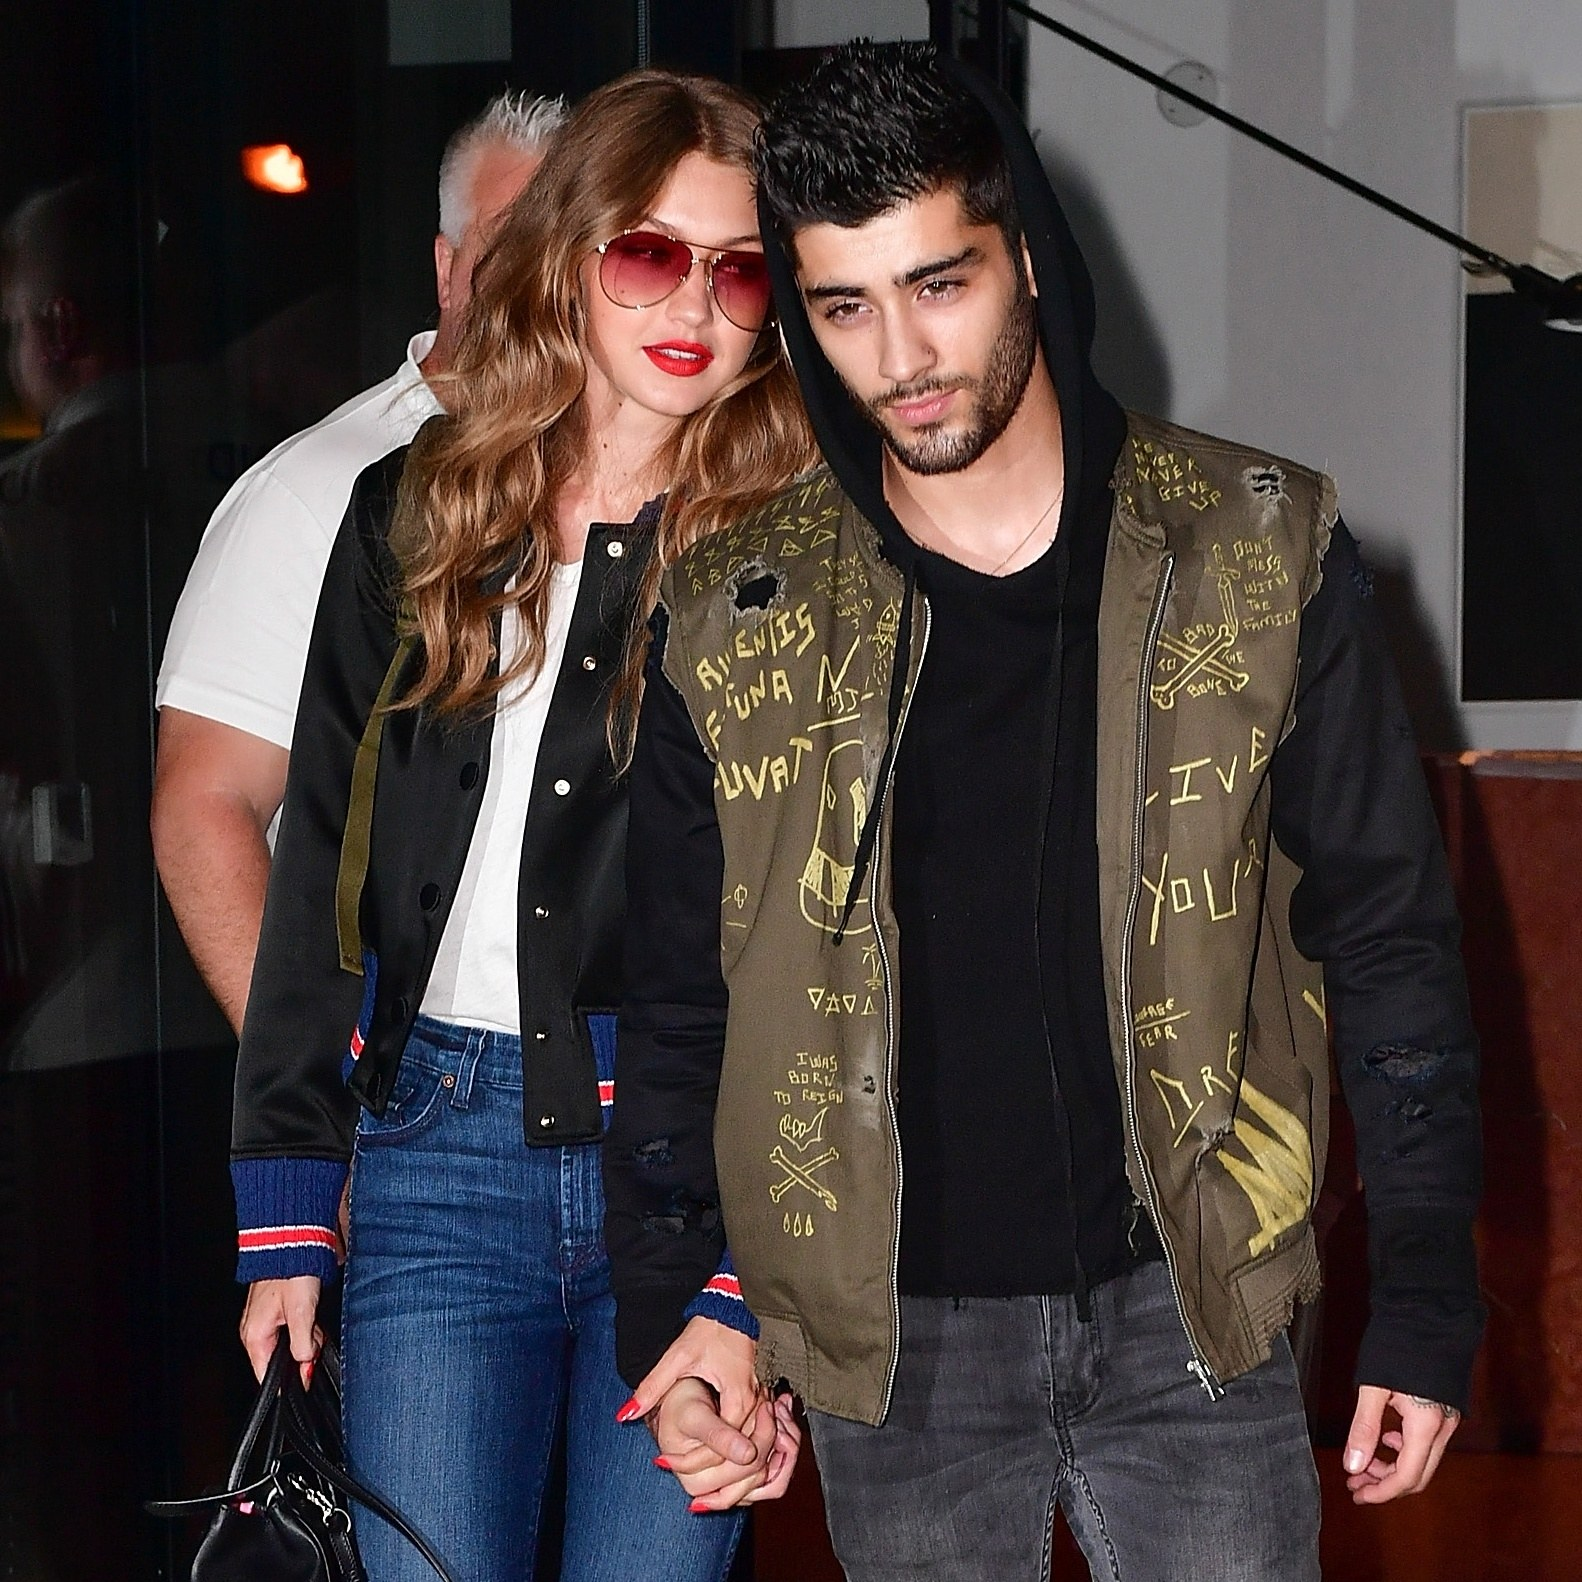jeans: (333, 1013, 721, 1582), (792, 1292, 1337, 1579)
sunglasses: (577, 235, 777, 326)
